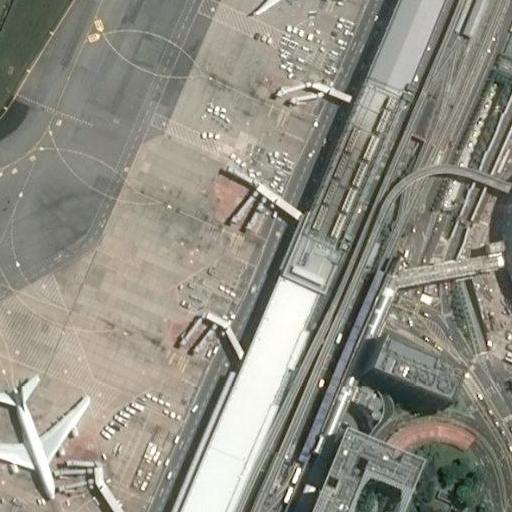Aircraft: (0, 370, 92, 500), (226, 0, 347, 16)
